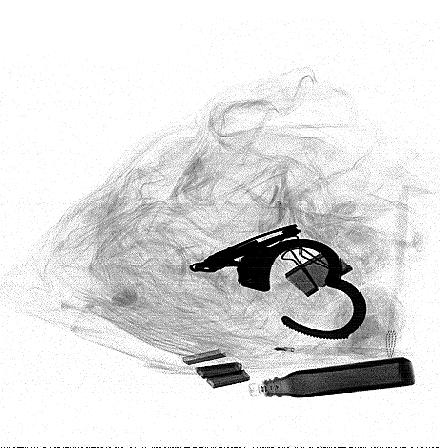HandCuffs: (189, 222, 367, 341)
